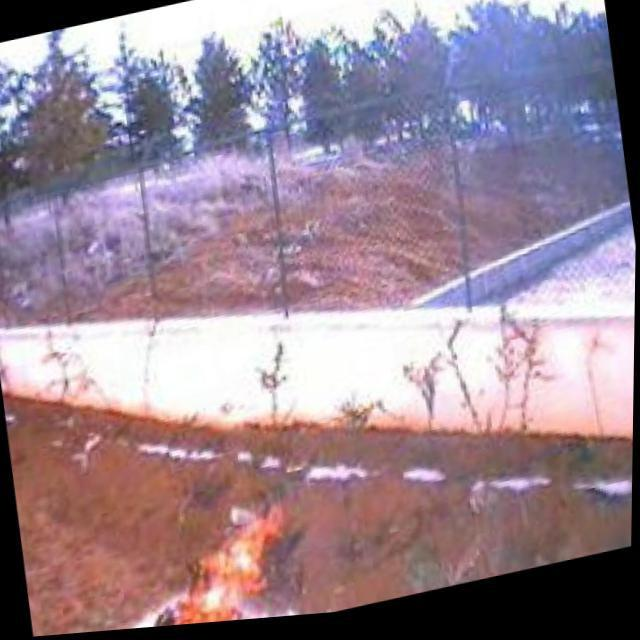fire: (138, 494, 302, 630)
